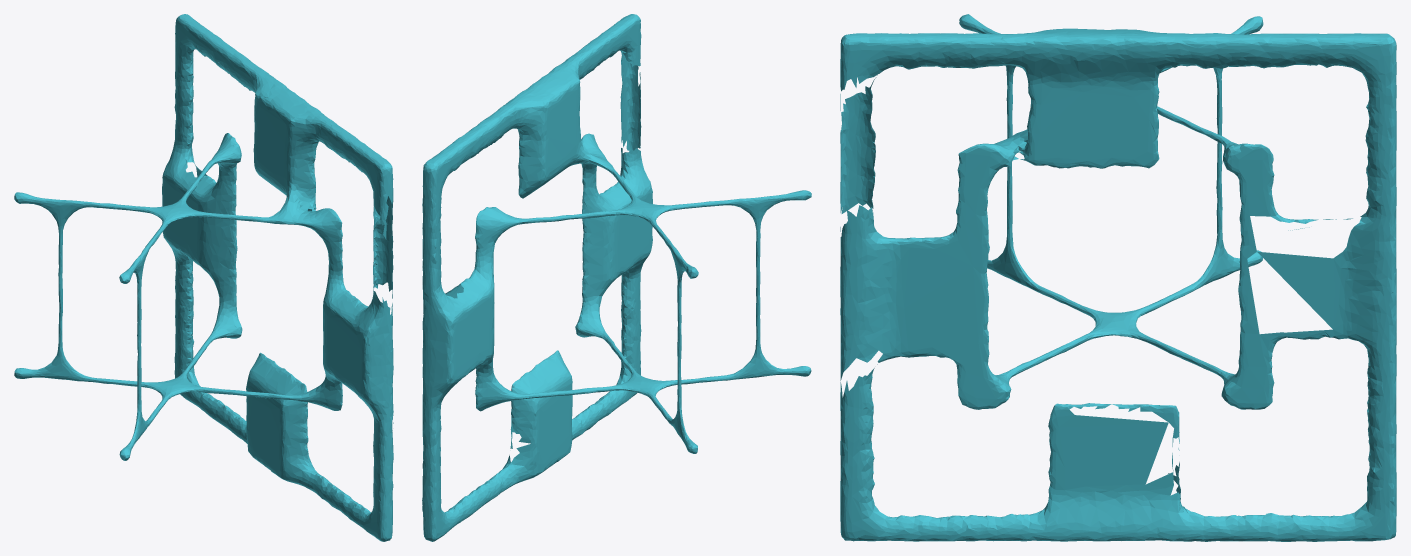
3 renders of one model, left to right at view 1: azimuth 30°, elevation 25°; view 2: azimuth 150°, elevation 25°; view 3: azimuth 270°, elevation 25°, orthographic. The views are drawn at different scales.
Parts seen in each view (by area): view 1: Renderer Node; view 2: Renderer Node; view 3: Renderer Node.
Part boxes in pixels (x1,y1,x2,y2): Renderer Node: [14, 14, 393, 541]; Renderer Node: [422, 14, 811, 541]; Renderer Node: [840, 14, 1396, 541].
Size of the model in its own units: 0.4074 by 0.6443 by 0.6443.
Materials: 1 (1 with a texture image).
